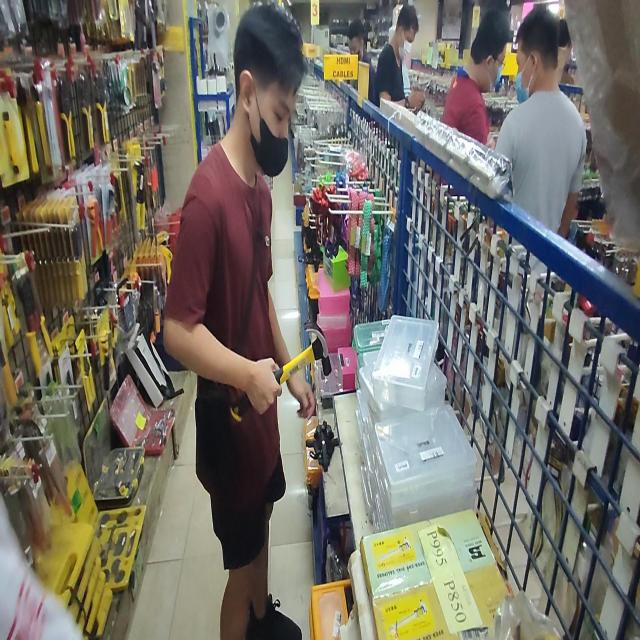hammer: (230, 322, 332, 422)
